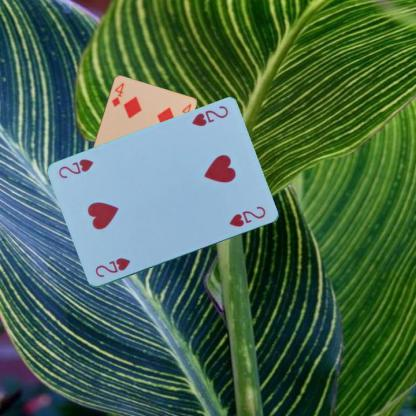2h: (92, 255, 132, 279), (189, 104, 229, 128)
4d: (110, 80, 126, 107)
